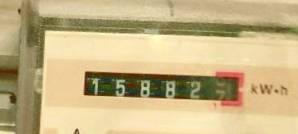1: (89, 75, 99, 94)
2: (188, 78, 201, 99)
5: (111, 76, 126, 96)
7: (212, 86, 225, 99)
8: (162, 77, 176, 98), (138, 77, 151, 97)
screen: (77, 62, 248, 110)
